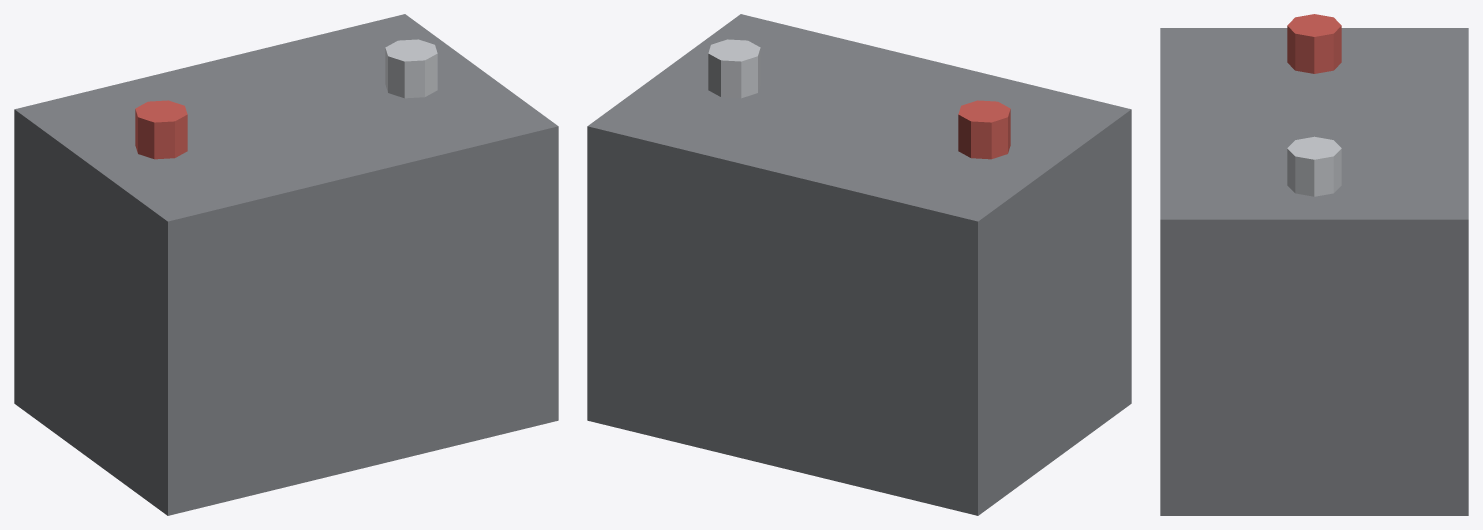
Rendered from bateria_carro.glb.
3 renders of one model, left to right at view 1: azimuth 30°, elevation 25°; view 2: azimuth 150°, elevation 25°; view 3: azimuth 270°, elevation 25°, orthographic.
Visible parts, largest first — view 1: bateria_carro; view 2: bateria_carro; view 3: bateria_carro.
Part boxes in pixels (x1,y1,x2,y2): bateria_carro: (14, 14, 558, 515); bateria_carro: (587, 14, 1131, 515); bateria_carro: (1160, 14, 1468, 515).
Bounding box in the file's own units: 0.25 × 0.2025 × 0.17.
